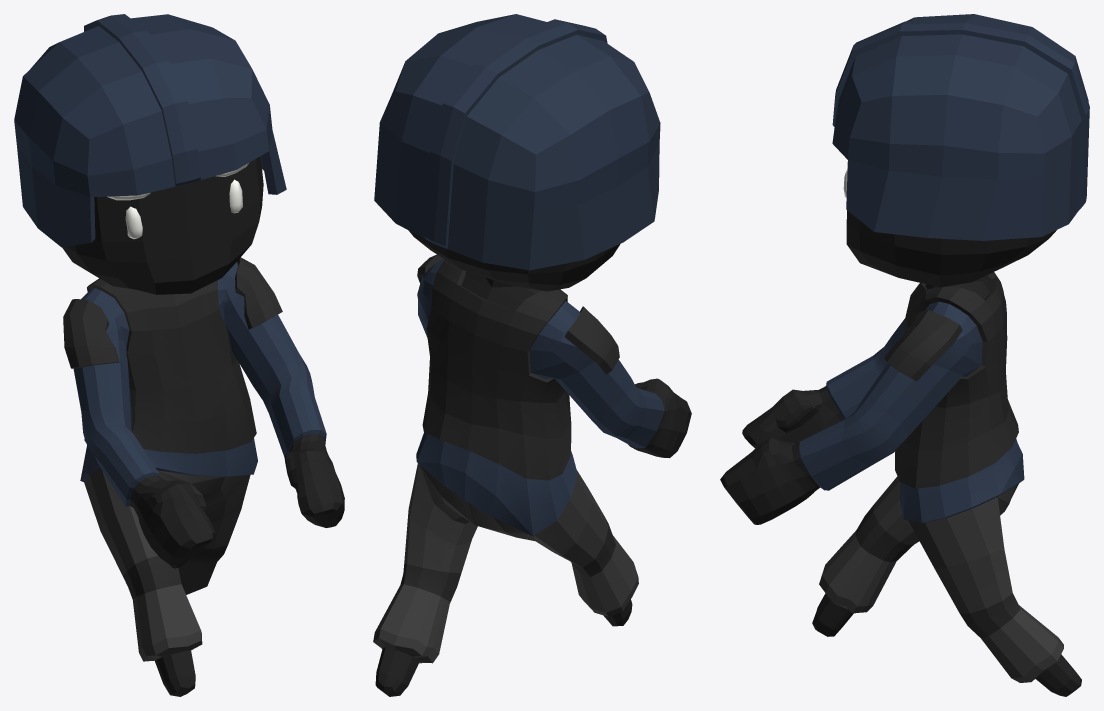
Rendered from char_player_01.glb.
3 views of the same model, side by side, from view 1: azimuth 30°, elevation 25°; view 2: azimuth 150°, elevation 25°; view 3: azimuth 270°, elevation 25° (orthographic). The views are drawn at different scales.
Parts seen in each view (by area): view 1: PlayerBody; view 2: PlayerBody; view 3: PlayerBody.
Part boxes in pixels (<box>): PlayerBody: <box>14,14,344,696</box>; PlayerBody: <box>373,14,691,696</box>; PlayerBody: <box>720,14,1089,696</box>.
Bounding box in the file's own units: 1.21 × 3.11 × 1.65.
